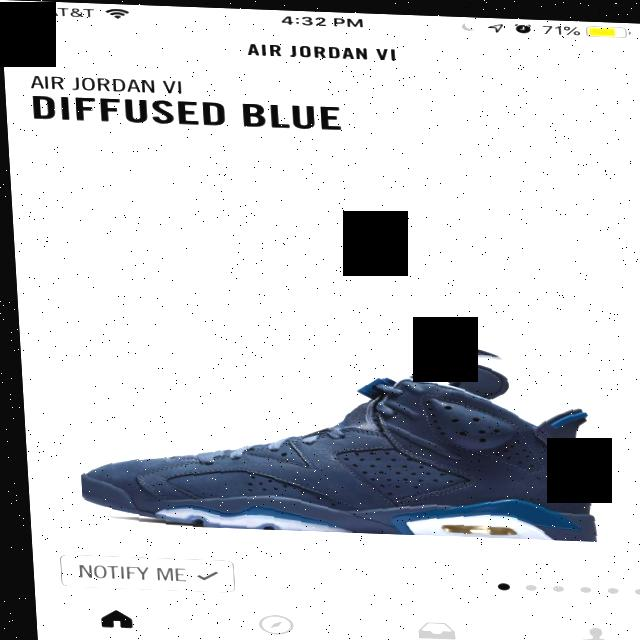shoe: (69, 325, 620, 538)
